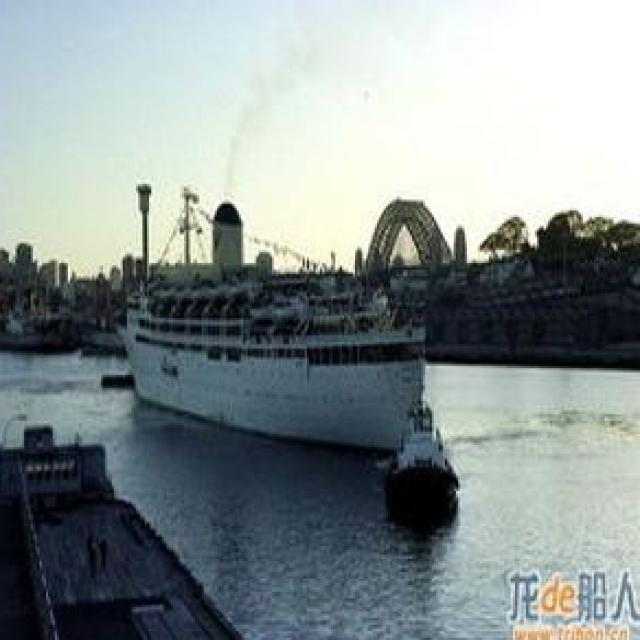passenger ship: (111, 251, 437, 447), (386, 404, 462, 528)
